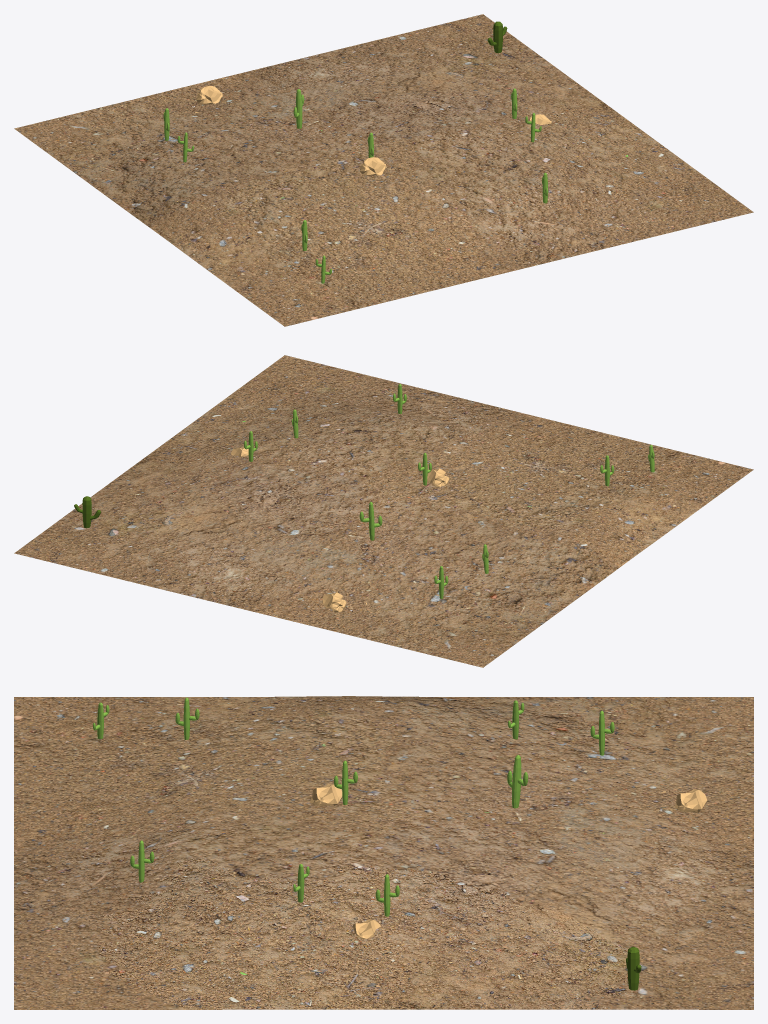
File: SSSS3.fbx
The picture shows the model from 3 angles, top to bottom: view 1: azimuth 30°, elevation 25°; view 2: azimuth 150°, elevation 25°; view 3: azimuth 270°, elevation 25°; orthographic projection. The views are drawn at different scales.
Visible parts, largest first — view 1: Plane; view 2: Plane; view 3: Plane, group1446250878, group1910377098, group1446250878.001, Cactus_3.
Boxes of the visible parts, bbox=[...] form: Plane: bbox=[14, 14, 753, 326]; Plane: bbox=[14, 355, 753, 667]; Plane: bbox=[14, 696, 753, 1009]; group1446250878: bbox=[674, 789, 707, 812]; group1910377098: bbox=[507, 755, 528, 808]; group1446250878.001: bbox=[310, 783, 342, 805]; Cactus_3: bbox=[626, 946, 641, 990].
Bounding box in the file's own units: 500 × 59.53 × 500.
